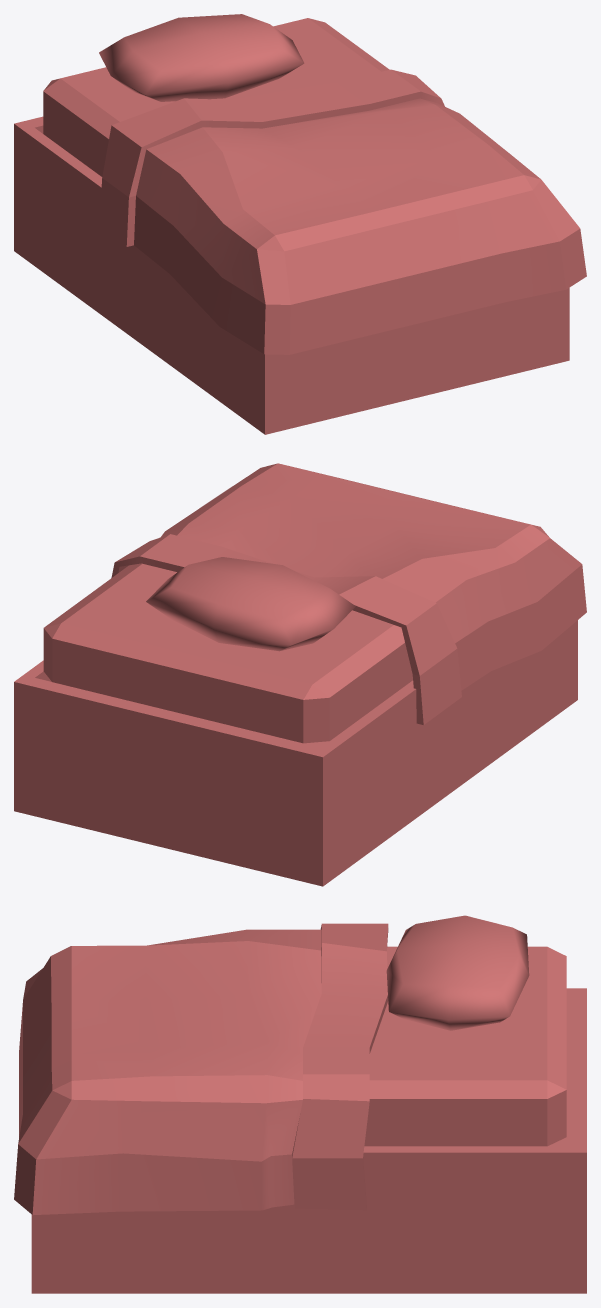
File: Bedroom_Bed.fbx
The picture shows the model from 3 angles, top to bottom: view 1: azimuth 30°, elevation 25°; view 2: azimuth 150°, elevation 25°; view 3: azimuth 270°, elevation 25°; orthographic projection. The views are drawn at different scales.
Visible parts, largest first — view 1: polySurface11, polySurface10, pCube13, polySurface9; view 2: polySurface10, polySurface11, polySurface9, pCube13; view 3: polySurface11, polySurface10, polySurface9, pCube13.
Part boxes in pixels (x1,y1,x2,y2): polySurface11: (99, 69, 586, 354); polySurface10: (14, 116, 569, 434); pCube13: (99, 14, 304, 101); polySurface9: (43, 18, 389, 176); polySurface10: (14, 620, 577, 886); polySurface11: (111, 463, 586, 725); polySurface9: (43, 563, 412, 743); pCube13: (146, 557, 355, 651); polySurface11: (14, 923, 388, 1214); polySurface10: (31, 988, 586, 1293); polySurface9: (364, 946, 566, 1146); pCube13: (386, 915, 529, 1030).
Bounding box in the file's own units: 10.73 × 7.03 × 14.39.
